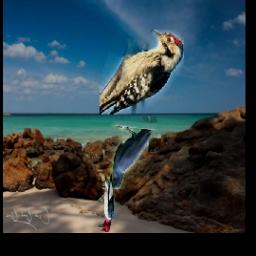Crow: (102, 117, 157, 189)
Woodpecker: (99, 31, 183, 116), (98, 169, 114, 232)
